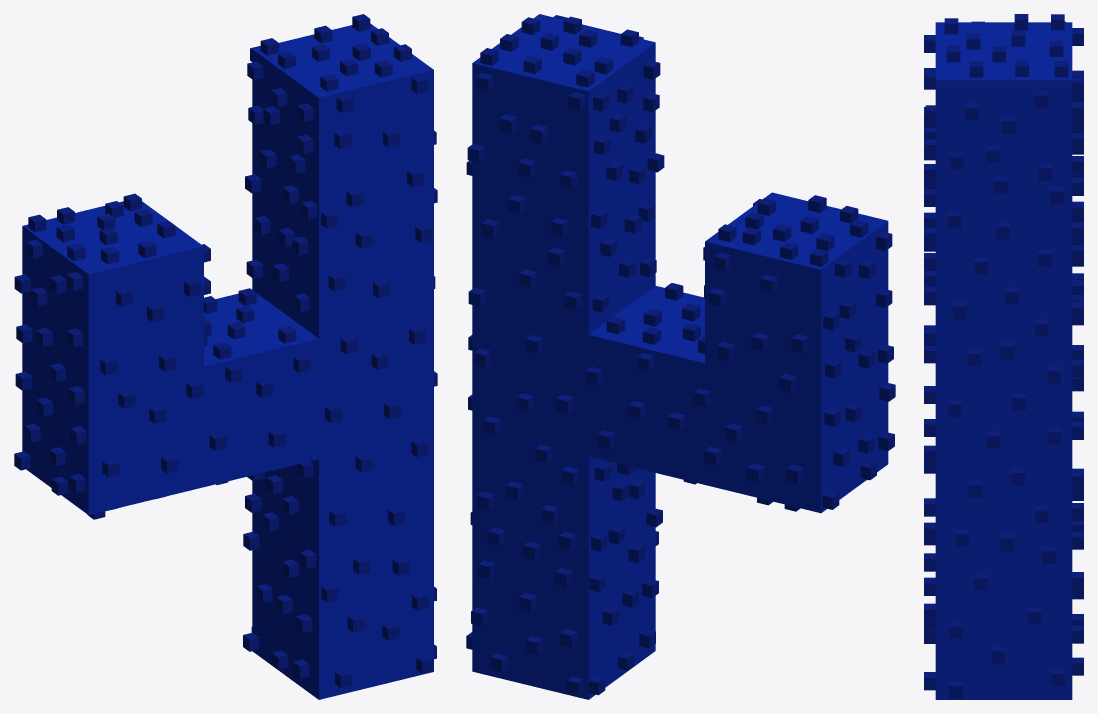
File: cactusbig.fbx
3 renders of one model, left to right at view 1: azimuth 30°, elevation 25°; view 2: azimuth 150°, elevation 25°; view 3: azimuth 270°, elevation 25°, orthographic. The views are drawn at different scales.
Parts seen in each view (by area): view 1: pasted__pCube309; view 2: pasted__pCube309; view 3: pasted__pCube309.
Boxes of the visible parts, <box> form: pasted__pCube309: <box>14,14,437,699</box>; pasted__pCube309: <box>466,14,895,699</box>; pasted__pCube309: <box>924,14,1083,699</box>.
Size of the model in its own units: 3.17 by 5.08 by 1.17.
